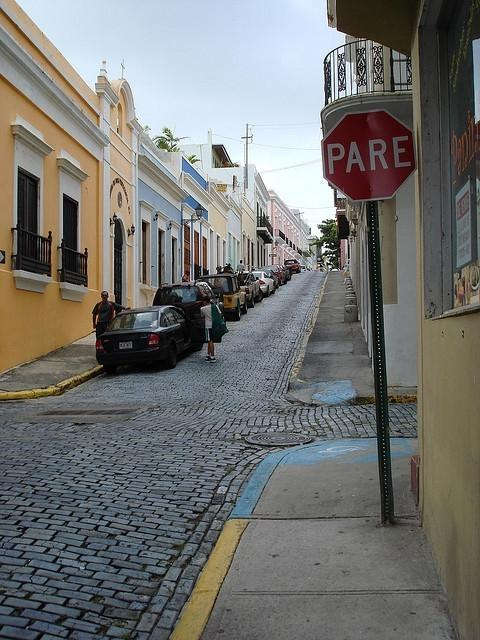car: (95, 302, 205, 373), (151, 278, 228, 324), (200, 272, 248, 322), (236, 270, 262, 310), (252, 270, 276, 297), (260, 265, 283, 286), (260, 268, 281, 288), (283, 259, 301, 274), (276, 264, 288, 284), (300, 266, 308, 272)
